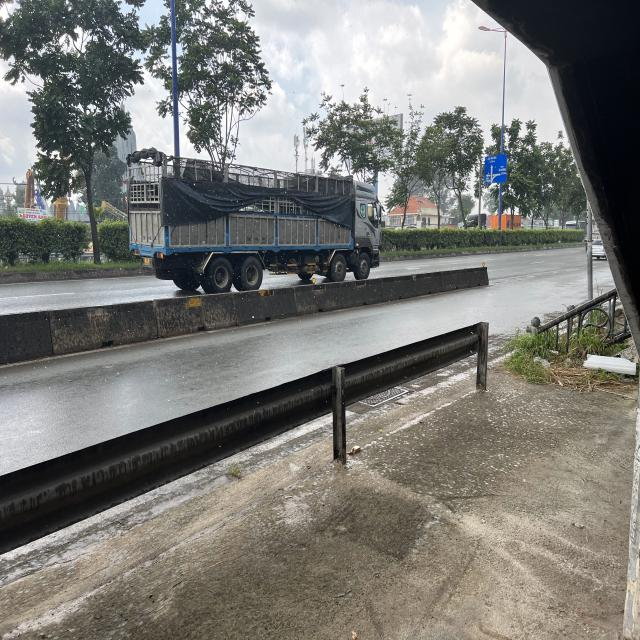car: (130, 245, 165, 259)
truck: (122, 150, 386, 285)
